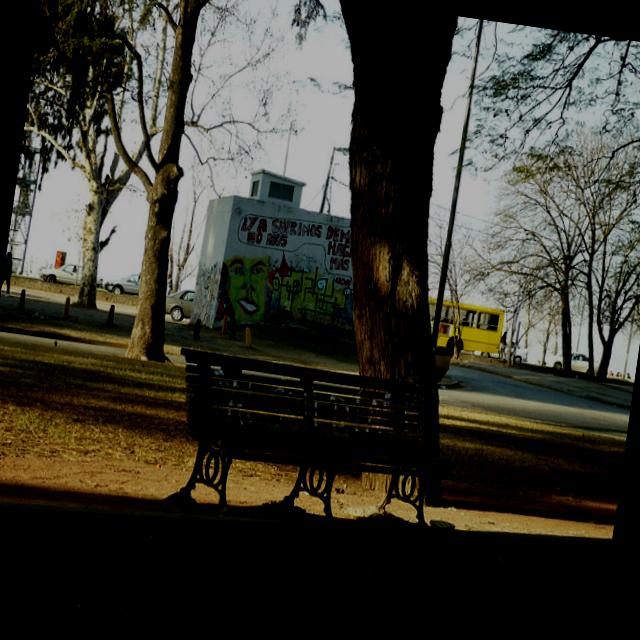Vehicle: (423, 296, 512, 366), (161, 283, 196, 323), (38, 258, 82, 287), (105, 270, 141, 298), (552, 350, 590, 376)
